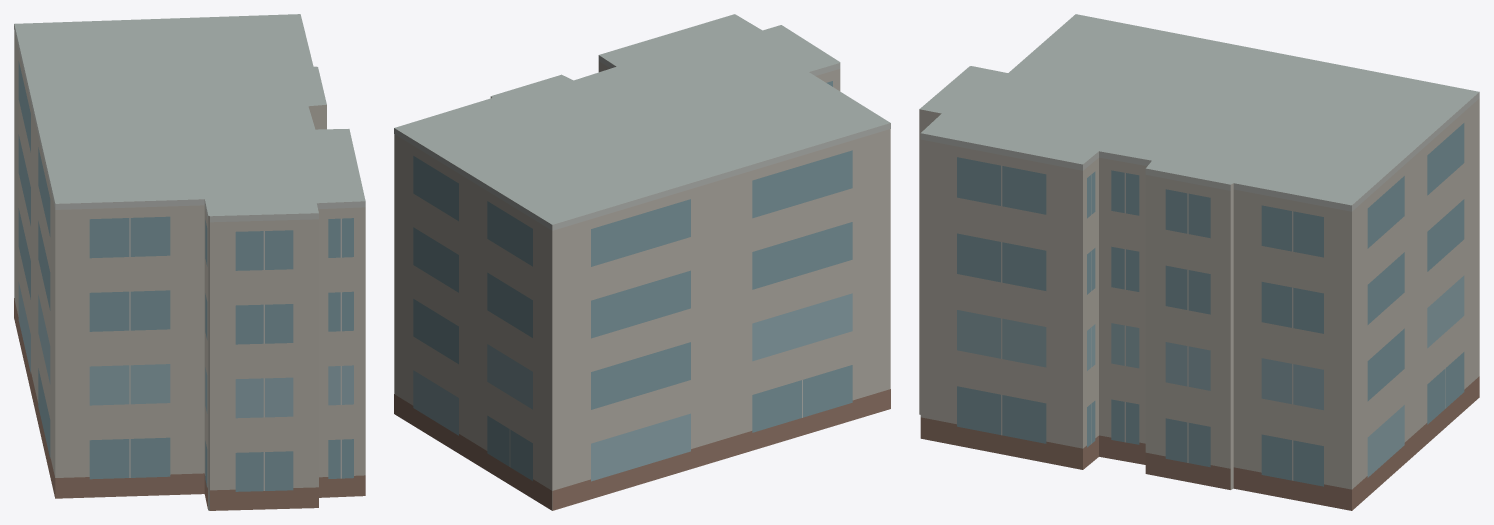
The model's file is survey-upis-33017249.glb.
The picture shows the model from 3 angles, left to right: view 1: azimuth 30°, elevation 25°; view 2: azimuth 150°, elevation 25°; view 3: azimuth 270°, elevation 25°; orthographic projection. The views are drawn at different scales.
Parts seen in each view (by area): view 1: survey-upis-33017249.tmp; view 2: survey-upis-33017249.tmp; view 3: survey-upis-33017249.tmp.
Part boxes in pixels (x1=…): survey-upis-33017249.tmp: x1=14, y1=14, x2=365, y2=510; survey-upis-33017249.tmp: x1=394, y1=14, x2=890, y2=510; survey-upis-33017249.tmp: x1=919, y1=14, x2=1479, y2=510.
Bounding box in the file's own units: 15.94 × 11.85 × 19.71.
